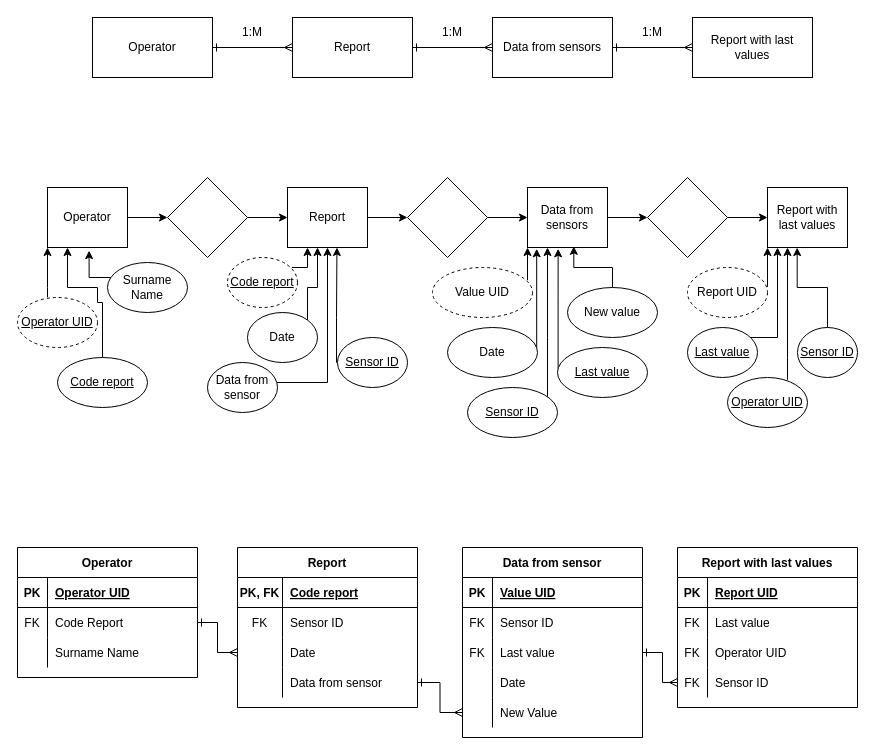
This 875x755 diagram has some shape labels left out. Here are the shapes that lost their labels. From the top down, the box of each, then its label:
(166, 176, 248, 258): Process
(406, 176, 488, 258): Pull
(646, 176, 728, 258): Generate
